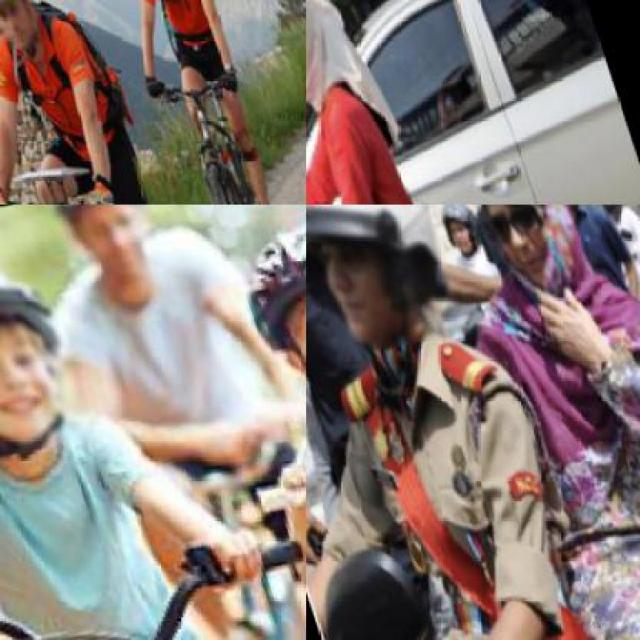With Helmet: (306, 204, 468, 364), (0, 228, 100, 482), (209, 204, 305, 453), (306, 0, 360, 112), (0, 0, 48, 57)
Without Helmet: (452, 205, 594, 306)
